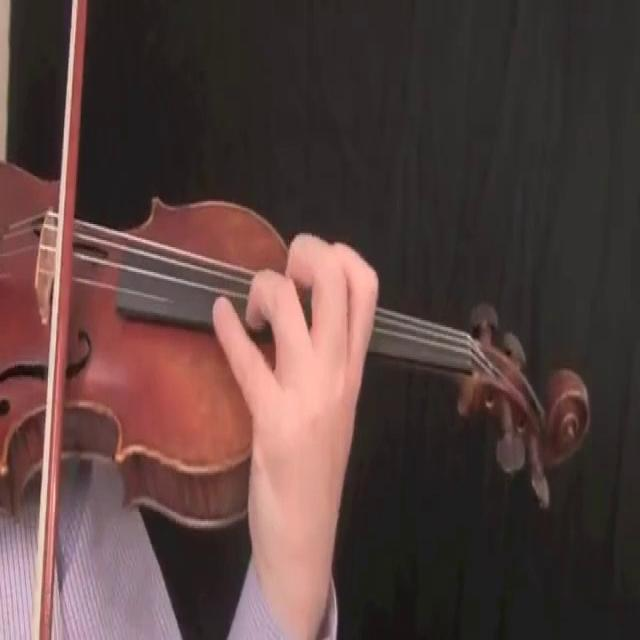Tuba: (3, 155, 596, 518)
